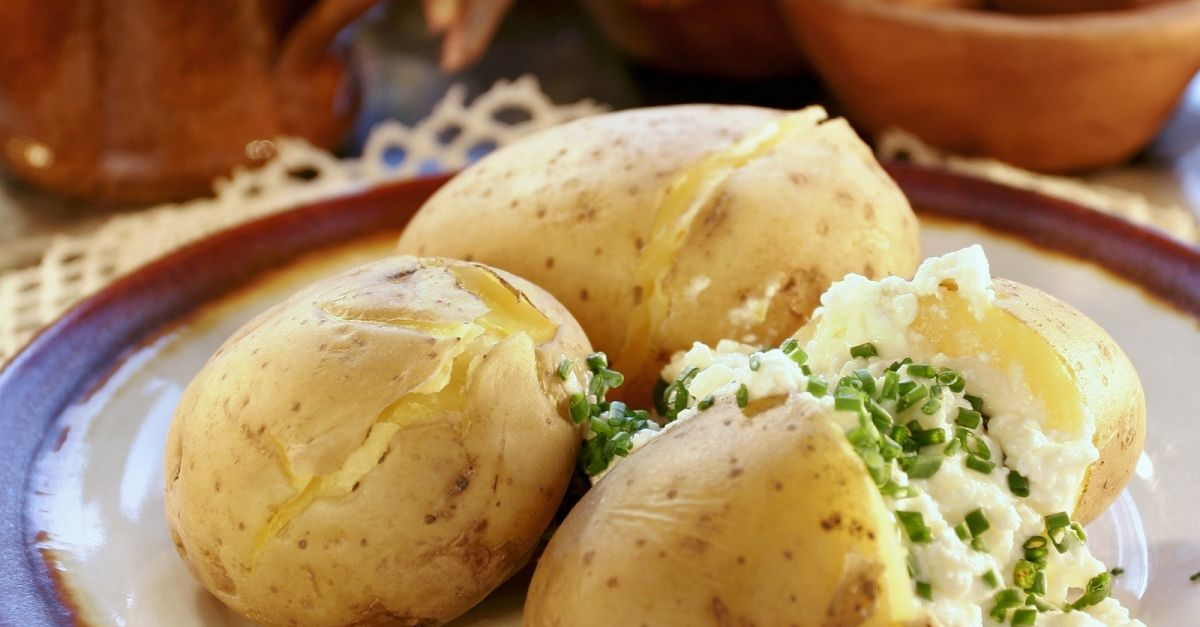boiled potatoes: (193, 270, 583, 623), (400, 107, 892, 358), (548, 385, 921, 627), (825, 279, 1144, 498)
